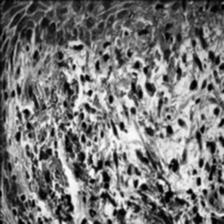Non-Cancerous Skin Condition: (20, 0, 224, 91), (0, 144, 224, 224)
